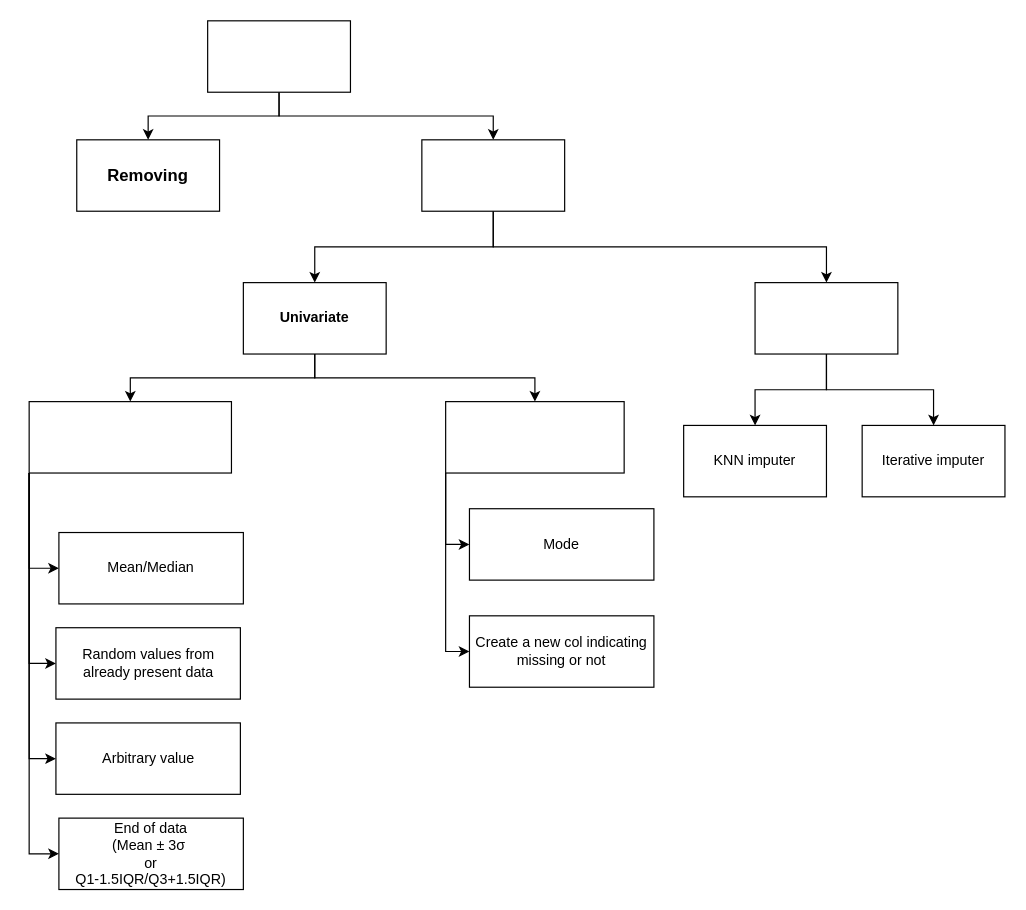
The diagram is 1026 pixels wide and 910 high, and some of its shapes have lost their labels. Each missing label, with the centre of its shape:
"Categorical" belongs at (x=534, y=436).
"Impute" belongs at (x=493, y=175).
"Missing Values" belongs at (x=278, y=56).
"Multivariate" belongs at (x=826, y=317).
"Numerical" belongs at (x=129, y=436).
